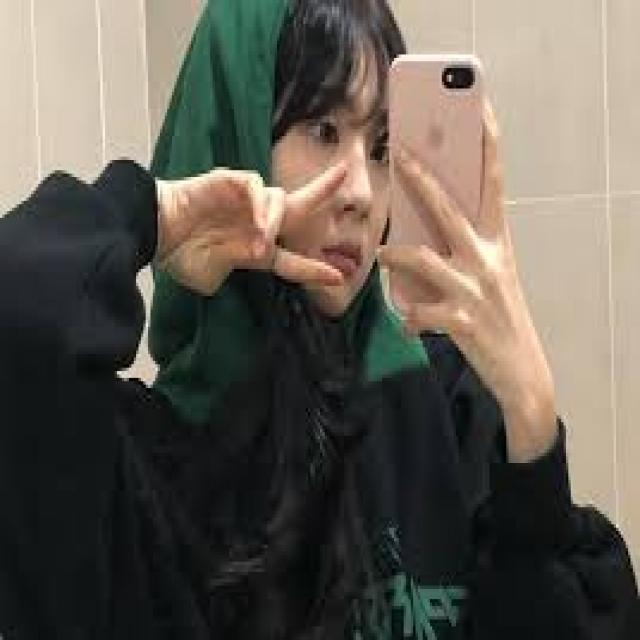Phone: (382, 51, 486, 318)
